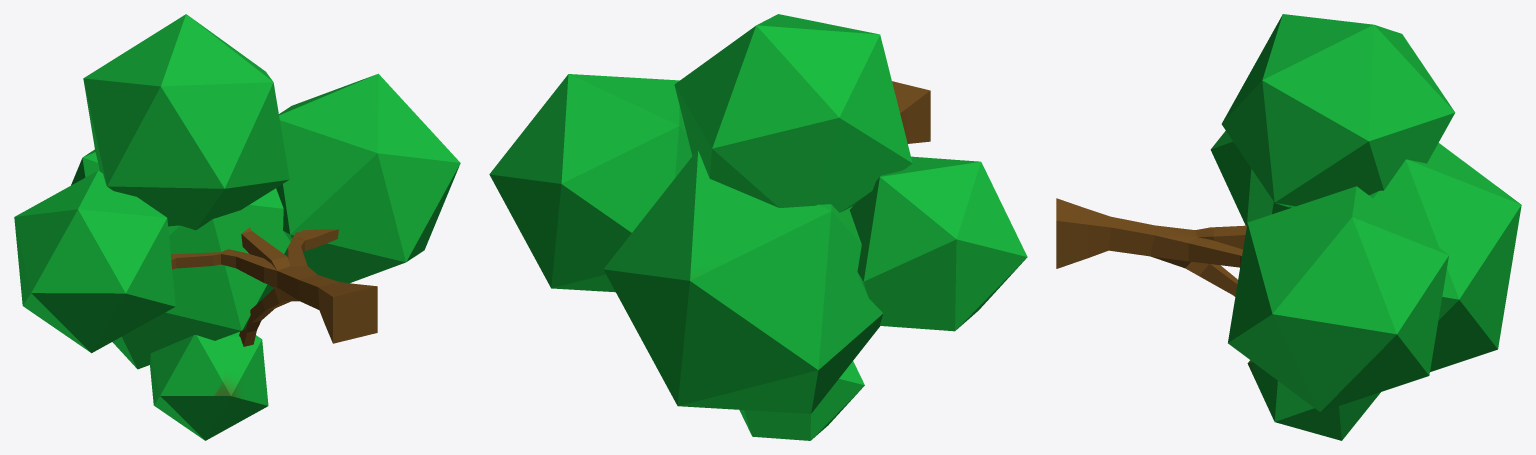
The model's file is tree.fbx.
3 views of the same model, side by side, from view 1: azimuth 30°, elevation 25°; view 2: azimuth 150°, elevation 25°; view 3: azimuth 270°, elevation 25° (orthographic). The views are drawn at different scales.
Visible parts, largest first — view 1: Icosphere; view 2: Icosphere; view 3: Icosphere.
Part boxes in pixels (x1,y1,x2,y2): Icosphere: (14,14,460,440); Icosphere: (489,14,1027,440); Icosphere: (1056,14,1521,440).
Bounding box in the file's own units: 1939 × 1869 × 2168.
Materials: 1 (1 with a texture image).
